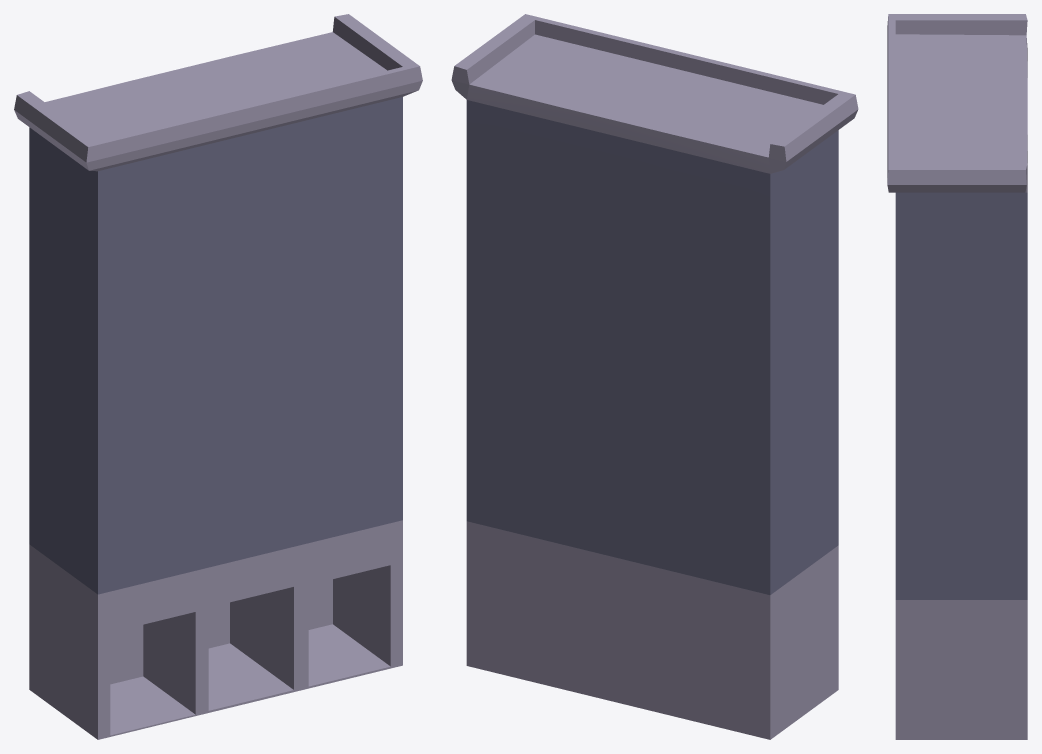
File: building_I_4floors.fbx
3 renders of one model, left to right at view 1: azimuth 30°, elevation 25°; view 2: azimuth 150°, elevation 25°; view 3: azimuth 270°, elevation 25°, orthographic. The views are drawn at different scales.
Parts seen in each view (by area): view 1: building6; view 2: building6; view 3: building6.
Boxes of the visible parts, box(x1,y1,x2,y2) form: building6: box(14, 14, 422, 739); building6: box(451, 14, 858, 739); building6: box(887, 14, 1027, 739).
Size of the model in its own units: 8.89 by 15.12 by 3.33.
